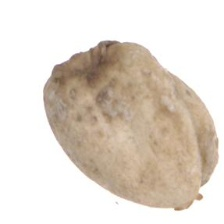L1: (46, 39, 115, 82), (168, 166, 214, 210)
L2: (42, 40, 219, 211)
